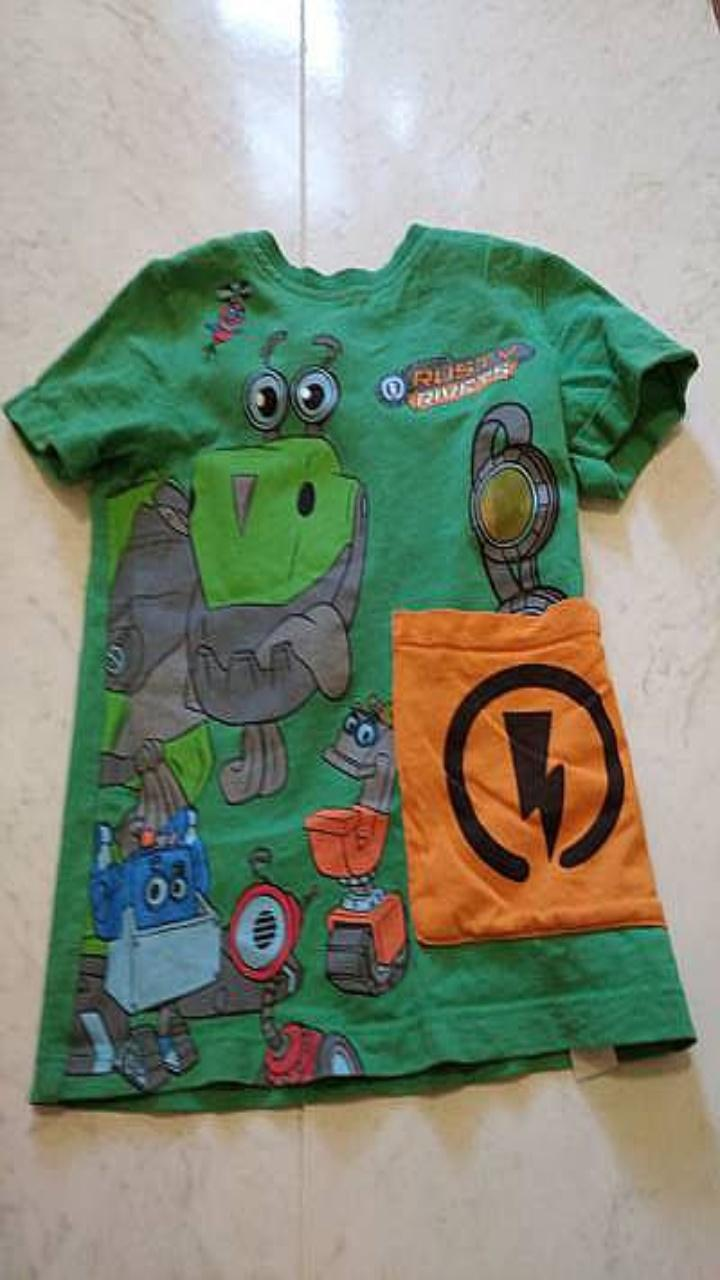Shorts: (394, 599, 663, 943)
T-Shirt: (5, 224, 696, 1110)
